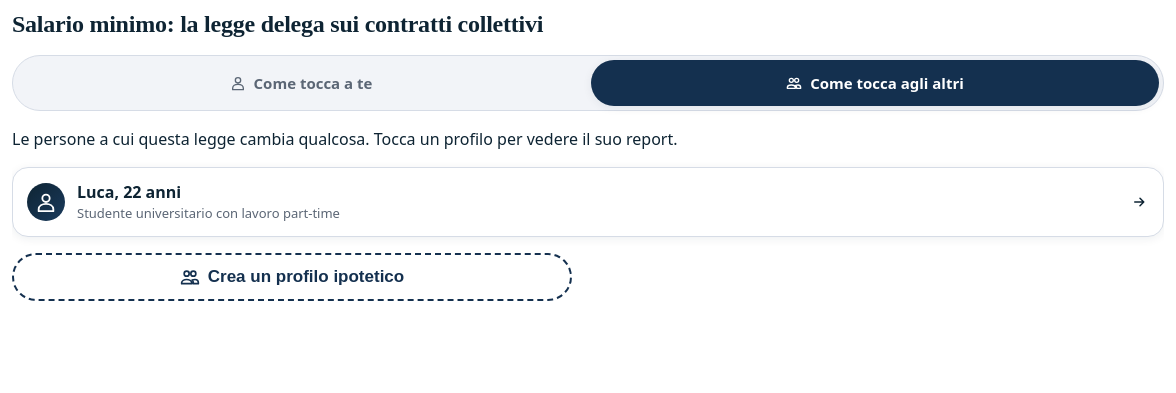
Scenario: aprendo un profilo gli effetti non economici hanno il badge di confidenza
Click the button "Luca, 22 anni Studente universitario con lavoro part-time" at (46, 202), box [13, 168, 1163, 236]
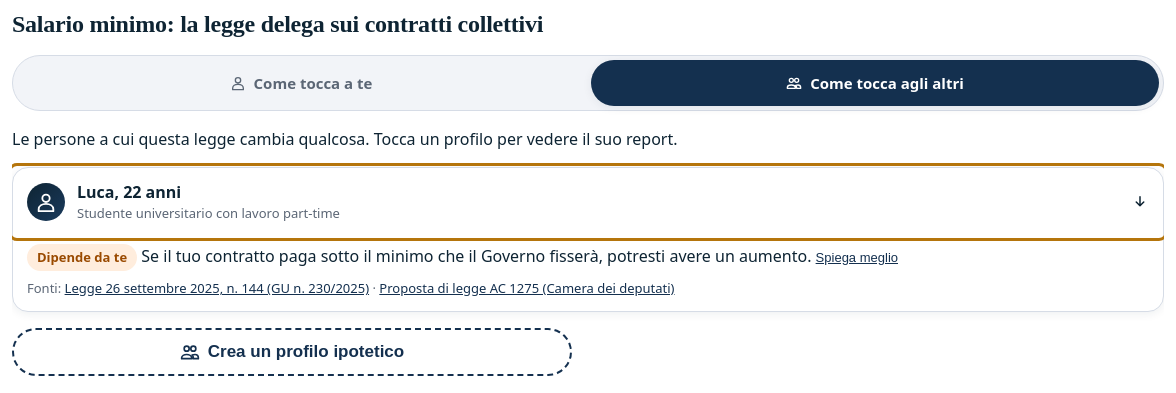
Result: the list item "Luca, 22 anni" shows "Dipende" at [37, 248, 127, 266]
